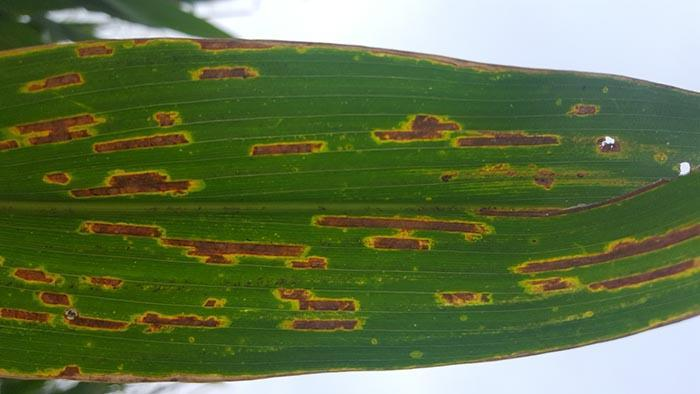Gray_Leaf_Spot: (0, 358, 480, 394), (317, 28, 564, 77), (0, 24, 335, 59), (308, 204, 505, 259), (507, 258, 700, 303), (502, 172, 668, 224), (0, 299, 211, 336), (374, 113, 562, 154), (1, 258, 129, 313), (558, 132, 700, 178), (42, 167, 208, 202), (267, 284, 371, 339), (151, 237, 335, 266), (491, 343, 633, 380), (0, 107, 107, 151), (598, 219, 700, 264), (430, 163, 591, 191), (428, 284, 513, 320), (238, 134, 329, 165), (75, 219, 170, 245), (90, 129, 192, 153), (184, 58, 260, 88), (19, 67, 86, 96), (645, 305, 700, 335), (568, 94, 617, 120), (146, 106, 192, 133), (198, 293, 234, 318), (558, 308, 602, 328), (338, 128, 361, 160)
